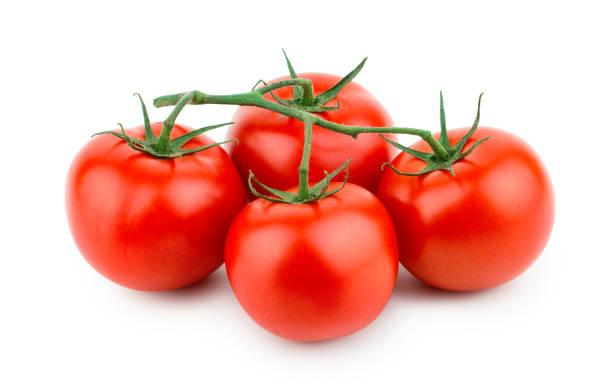Tomato: (58, 71, 557, 342)
